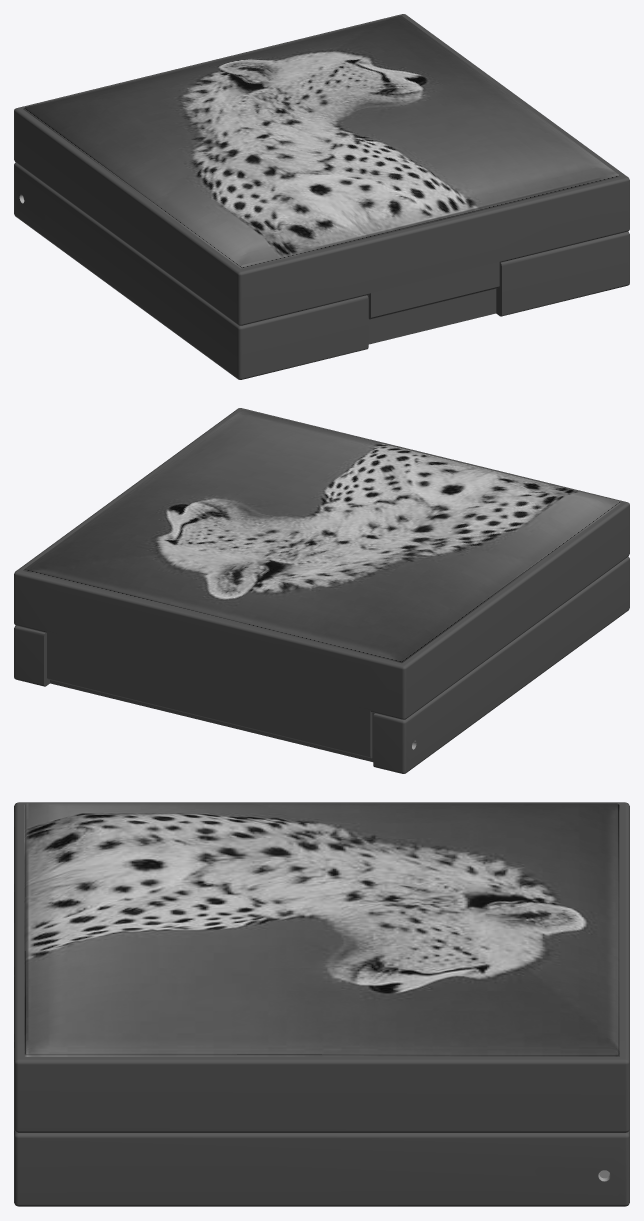
Rendered from chantercailleBox.fbx.
The picture shows the model from 3 angles, top to bottom: view 1: azimuth 30°, elevation 25°; view 2: azimuth 150°, elevation 25°; view 3: azimuth 270°, elevation 25°; orthographic projection. The views are drawn at different scales.
Parts seen in each view (by area): view 1: animalPhoto, topBox, bottomBox1; view 2: animalPhoto, topBox, bottomBox1; view 3: animalPhoto, topBox, bottomBox1.
Part boxes in pixels (left/top/right/bottom): animalPhoto: left=23, top=15, right=620, bottom=269; topBox: left=14, top=14, right=629, bottom=325; bottomBox1: left=14, top=162, right=629, bottom=379; animalPhoto: left=23, top=409, right=620, bottom=663; topBox: left=14, top=408, right=629, bottom=758; bottomBox1: left=14, top=556, right=629, bottom=773; animalPhoto: left=24, top=803, right=619, bottom=1056; topBox: left=14, top=802, right=629, bottom=1132; bottomBox1: left=14, top=1129, right=629, bottom=1206.
Bounding box in the file's own units: 1 × 0.3032 × 1.
